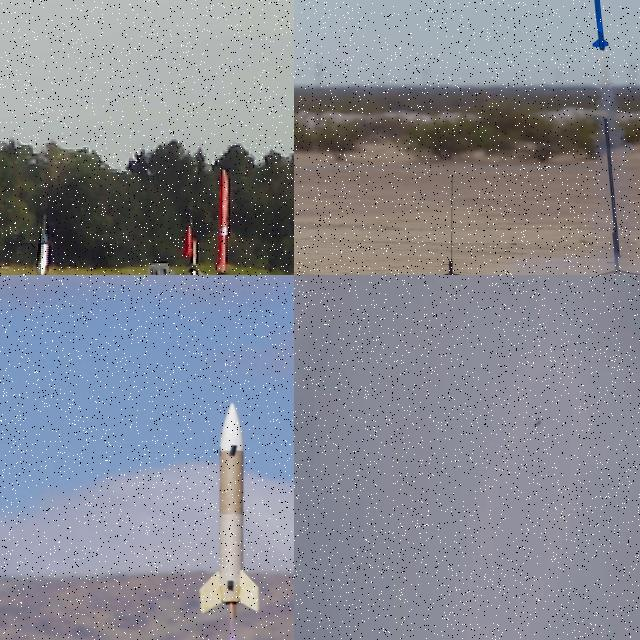Rocket: (198, 401, 264, 615), (215, 168, 230, 274), (588, 0, 610, 51), (37, 230, 49, 275), (183, 218, 195, 258), (534, 419, 542, 428)
